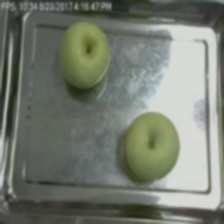apple: (0, 4, 190, 201)
